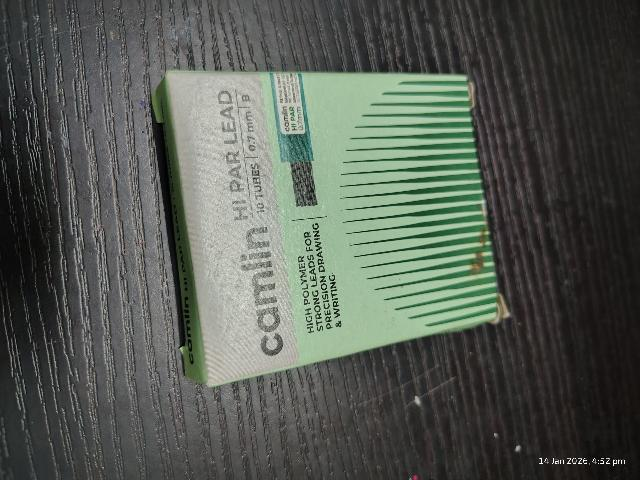camlin lids: (161, 67, 516, 359)
